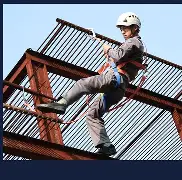safety belt: (100, 46, 151, 92)
